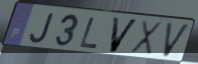3: (54, 13, 80, 49)
J: (28, 11, 56, 45)
L: (77, 16, 100, 50)
V: (108, 16, 141, 55), (162, 21, 192, 60)
X: (128, 19, 164, 58)
